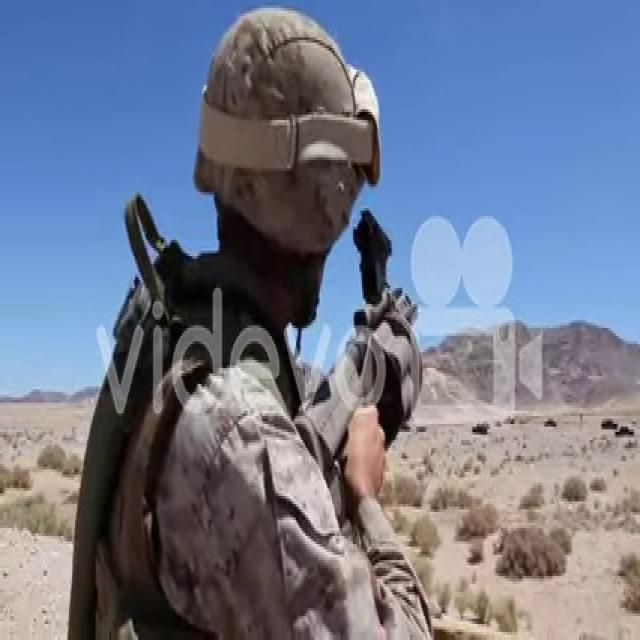bazooka: (298, 199, 426, 478)
